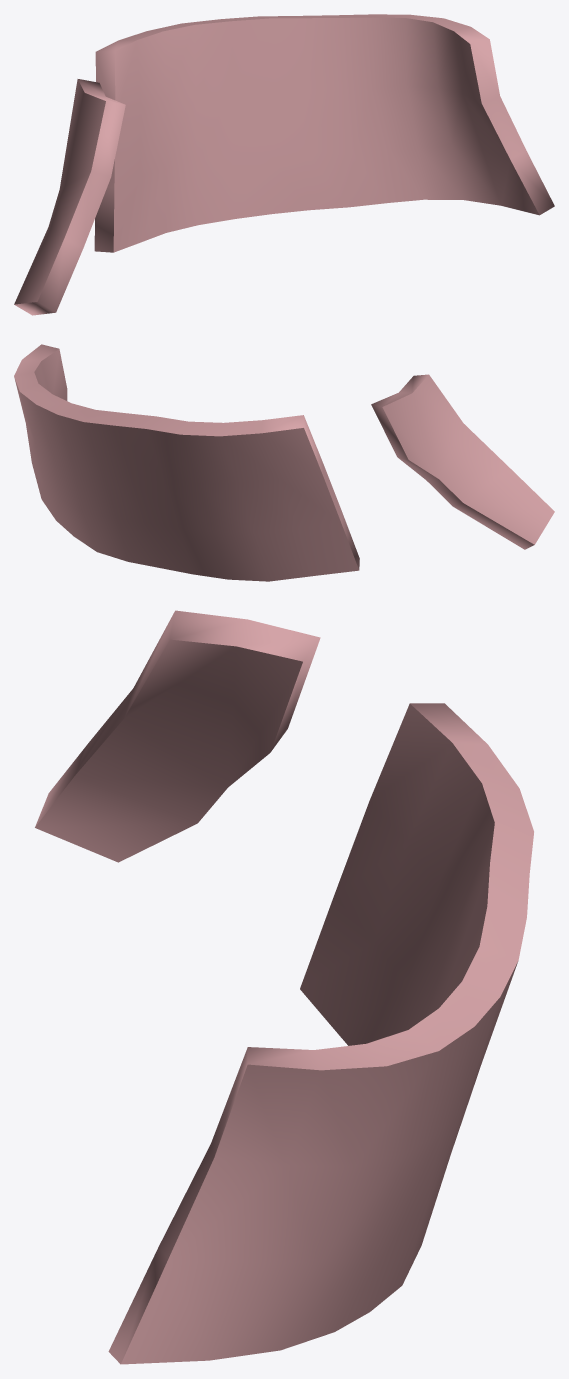
The picture shows the model from 3 angles, top to bottom: view 1: azimuth 30°, elevation 25°; view 2: azimuth 150°, elevation 25°; view 3: azimuth 270°, elevation 25°; orthographic projection. The views are drawn at different scales.
Parts seen in each view (by area): view 1: ZA_982bcee5a9cfc43d; view 2: ZA_982bcee5a9cfc43d; view 3: ZA_982bcee5a9cfc43d.
Part boxes in pixels (x1,y1,x2,y2): ZA_982bcee5a9cfc43d: [14, 14, 554, 315]; ZA_982bcee5a9cfc43d: [14, 344, 554, 581]; ZA_982bcee5a9cfc43d: [35, 610, 533, 1364].
Size of the model in its own units: 0.0823 by 0.0325 by 0.0362.
